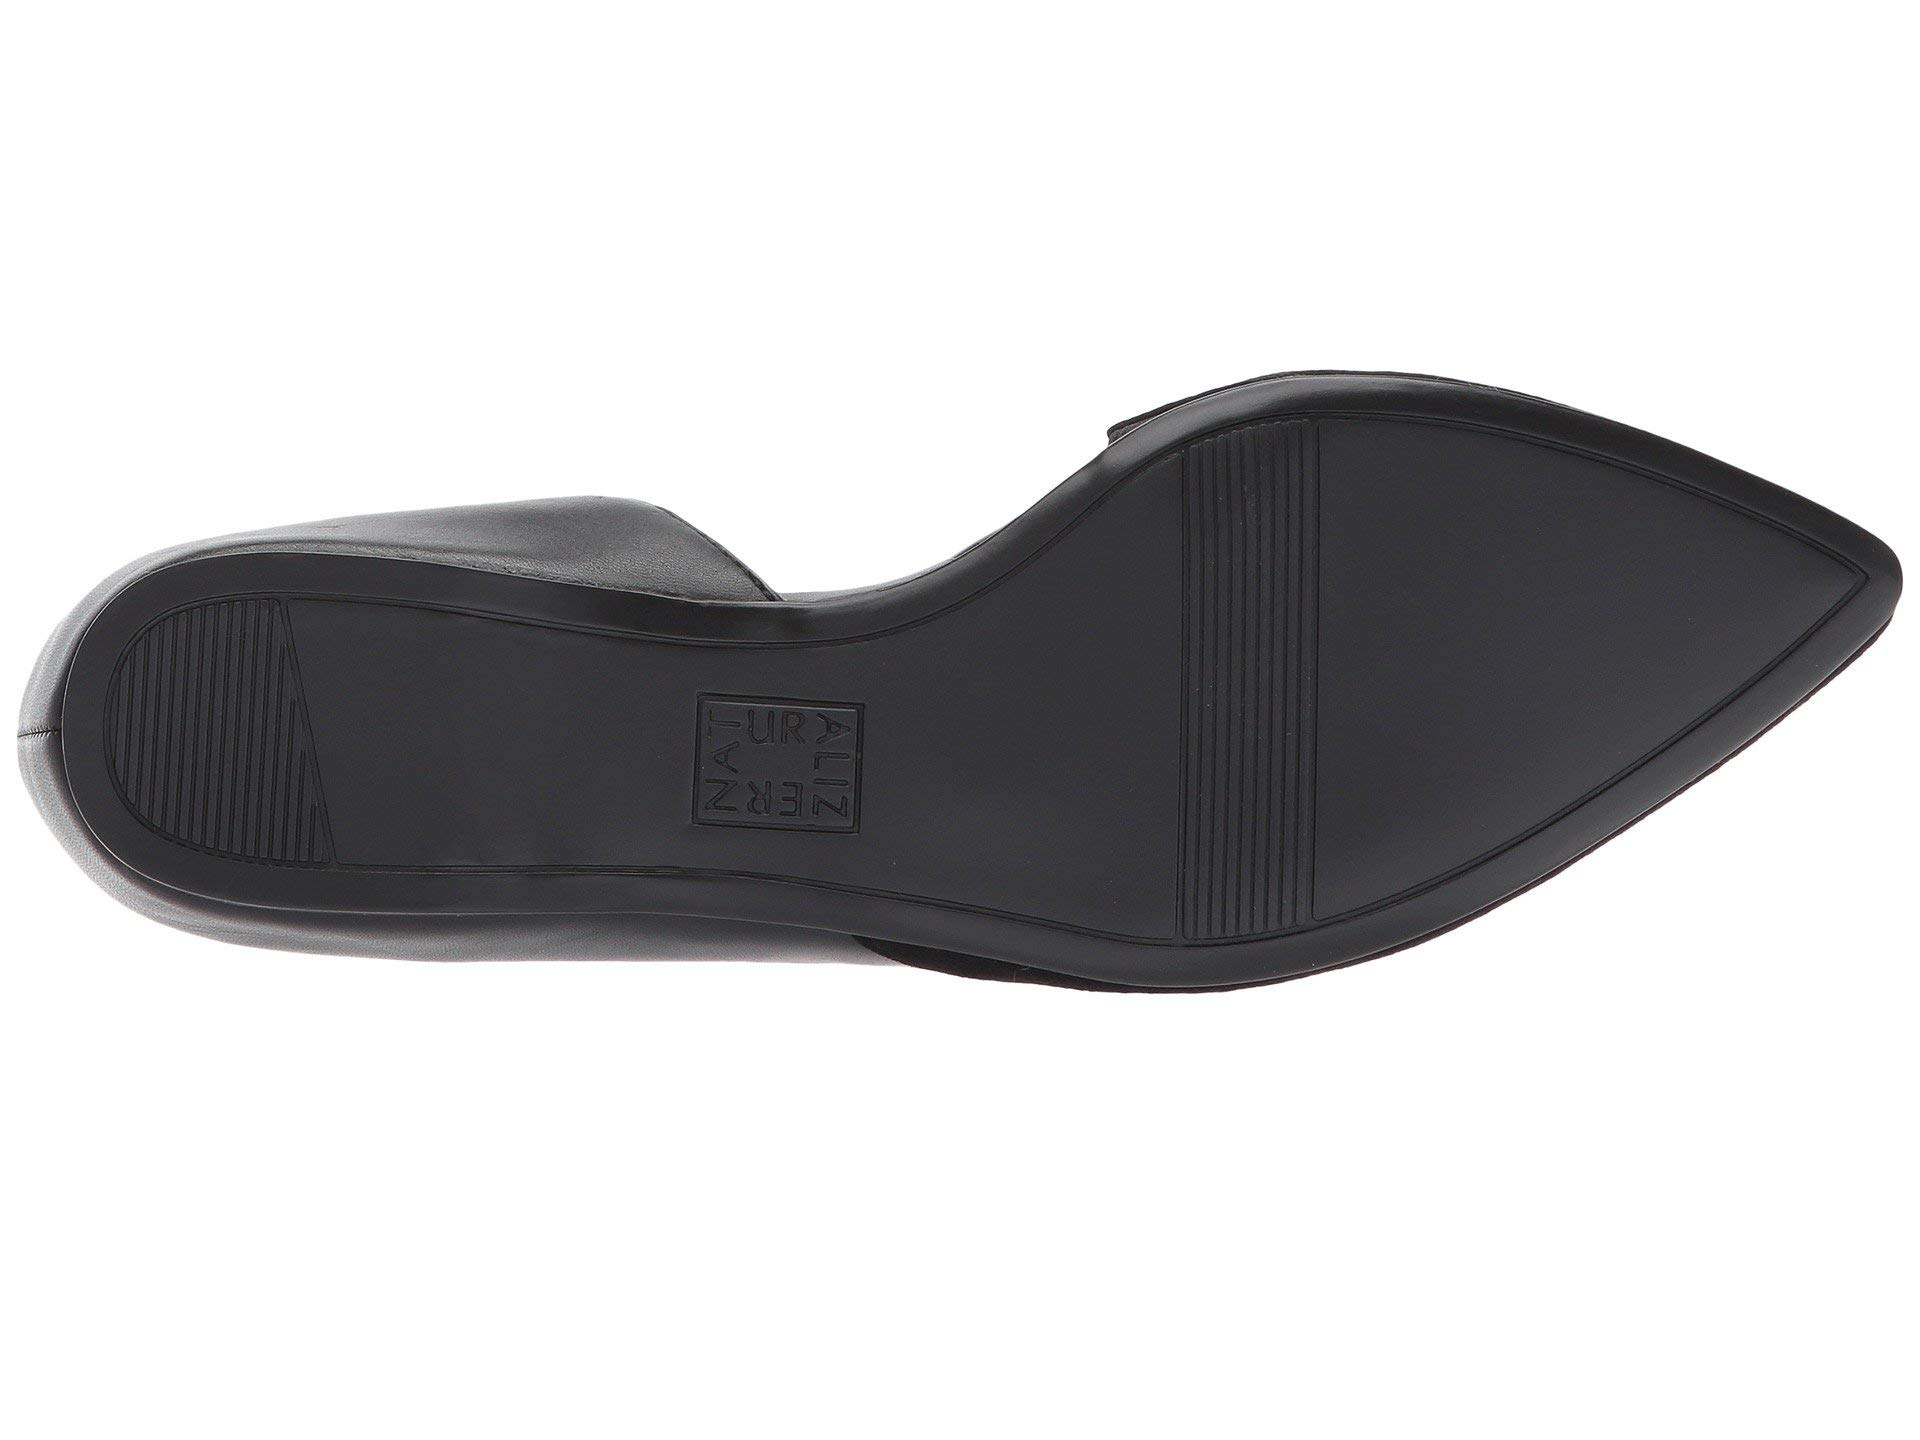line: (1152, 437, 1367, 920), (147, 669, 274, 811), (290, 787, 358, 885)
quad: (671, 678, 915, 846)
text: (671, 678, 915, 846)
triangle: (290, 787, 358, 885)
